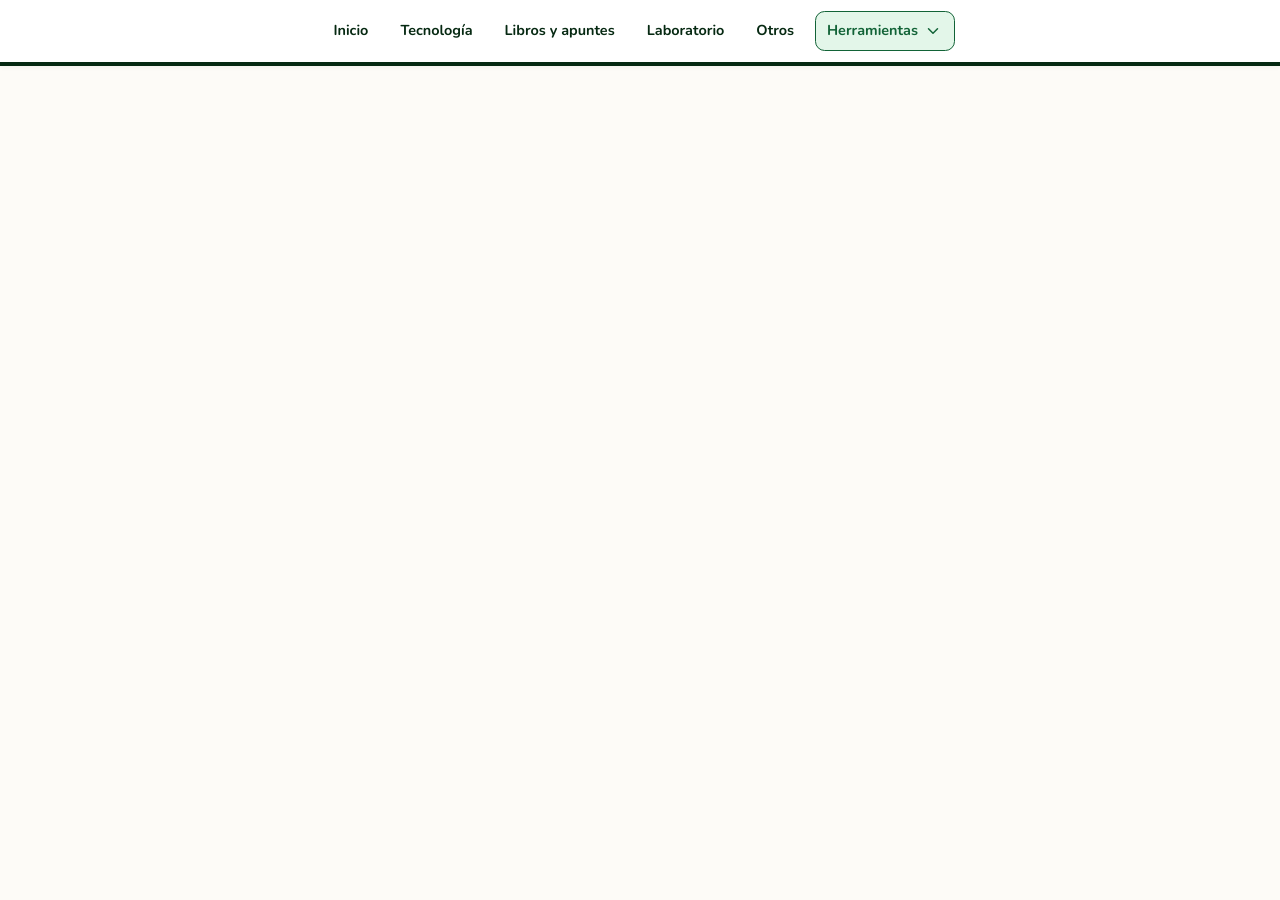
closes with Escape or an outside click and highlights the selected category
Click the button "Herramientas" at (885, 31), box [815,11,954,51]
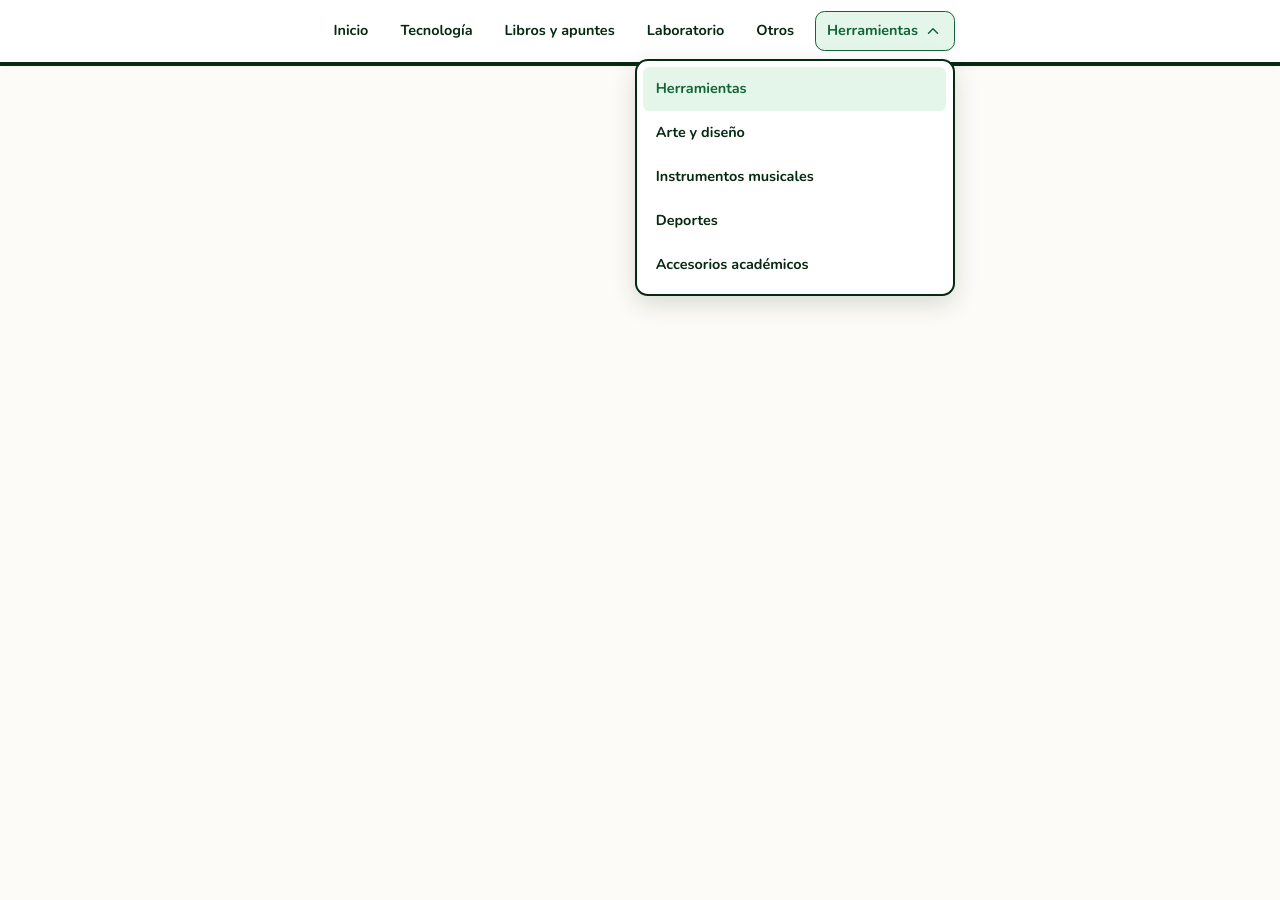
Press Escape
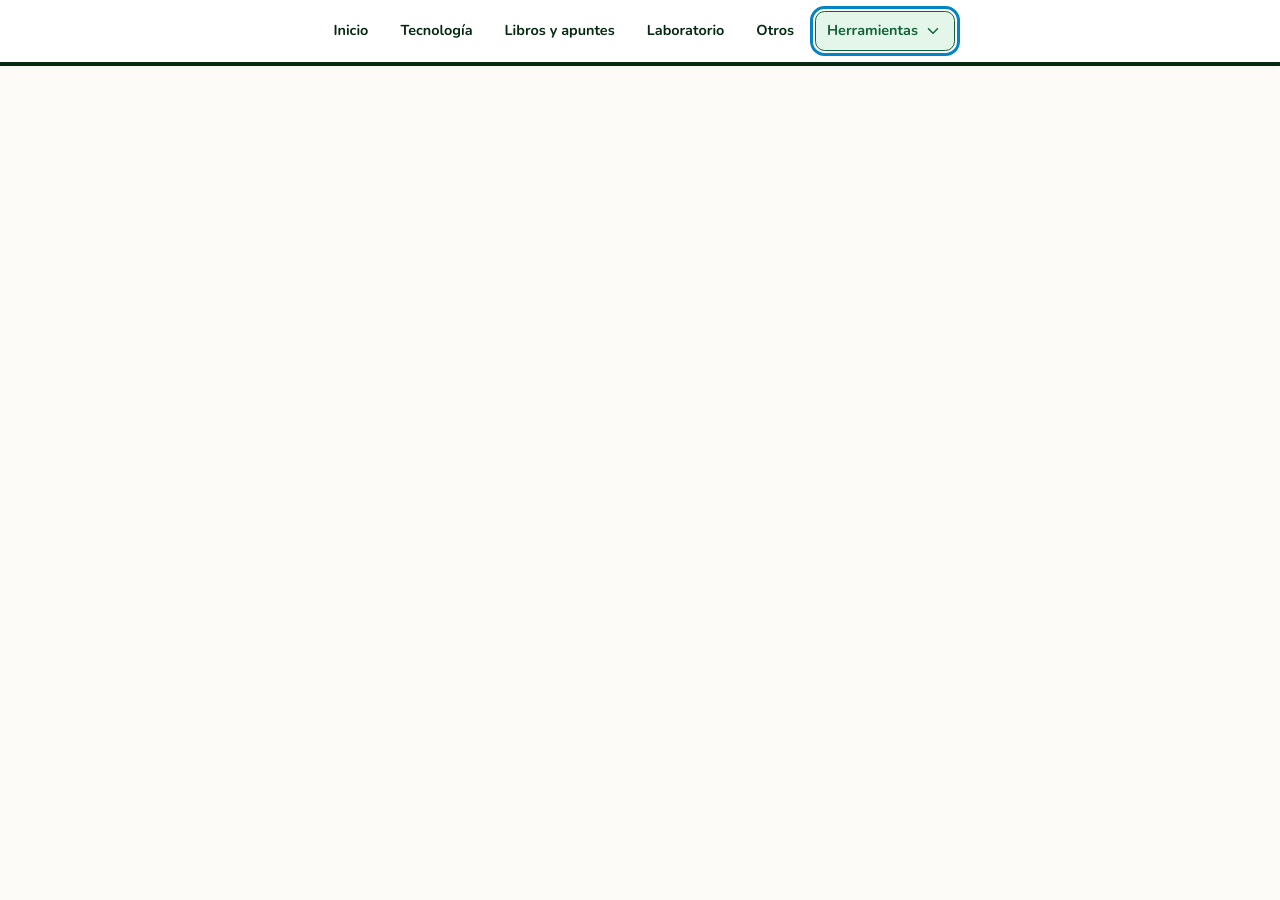
Result: the button "Herramientas" is collapsed
Click the button "Herramientas" at (885, 31), box [815,11,954,51]
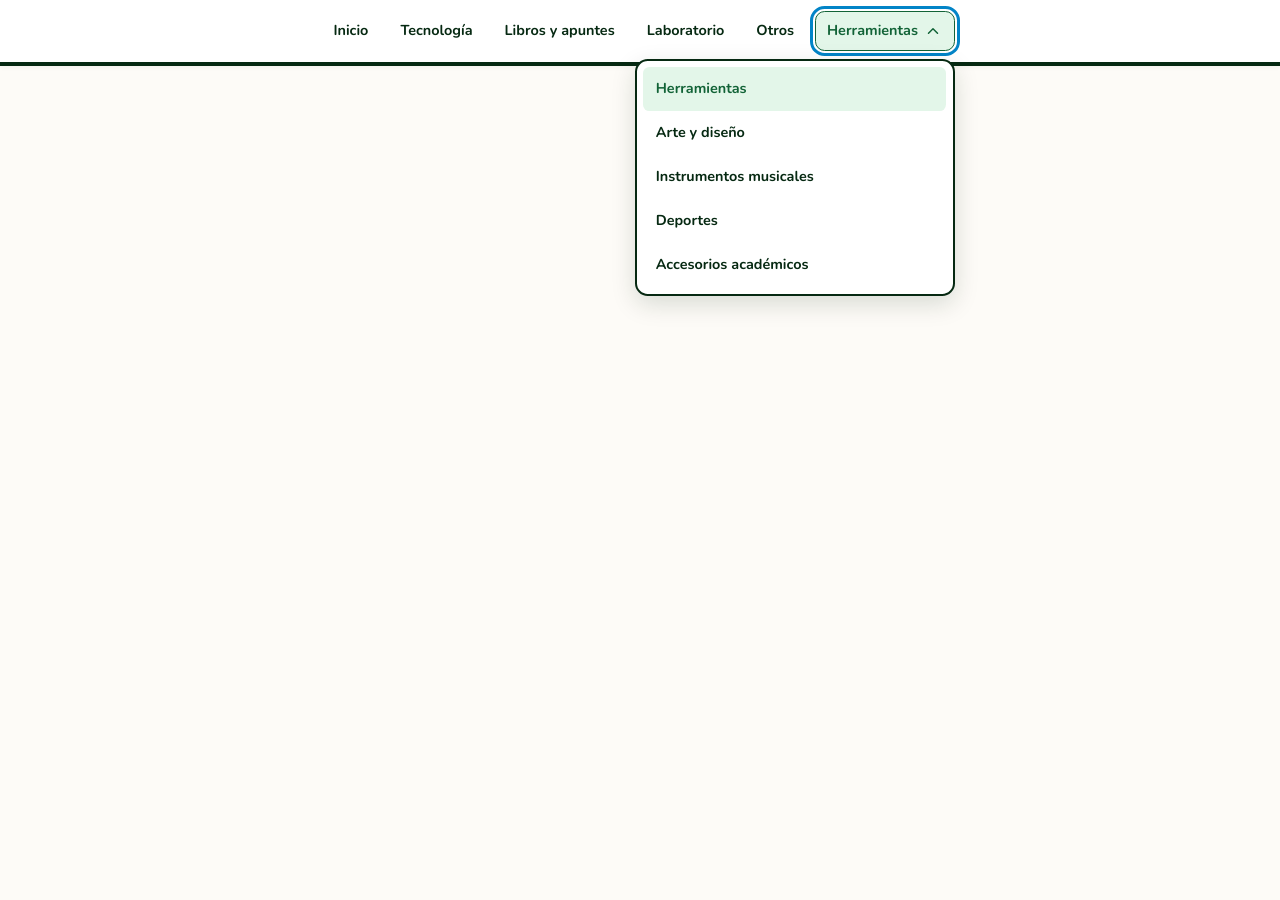
Press the mouse on the element that starts with "Inicio" at (640, 450), box [0,0,1279,899]
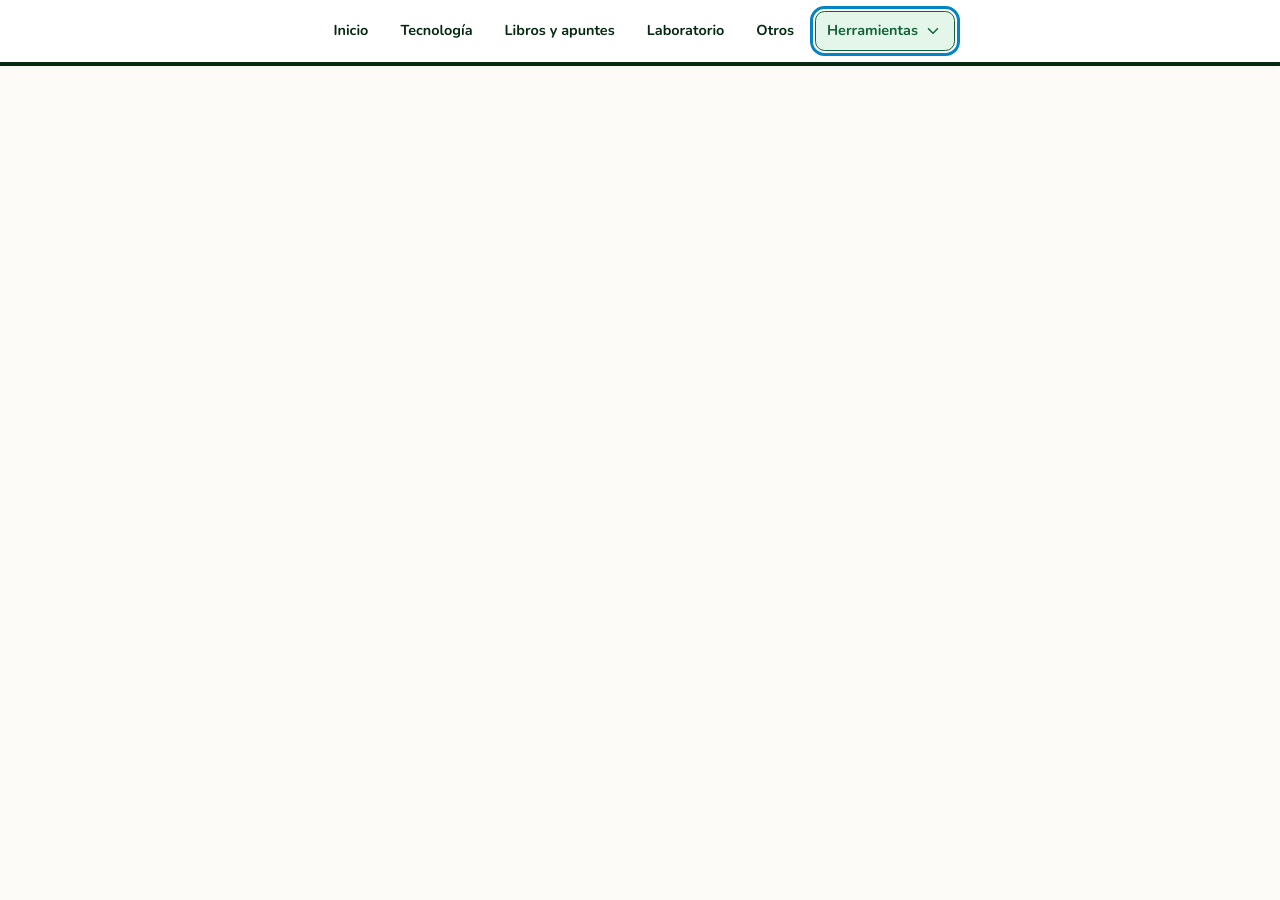
Result: the button "Herramientas" is collapsed at [815,11,954,51]
